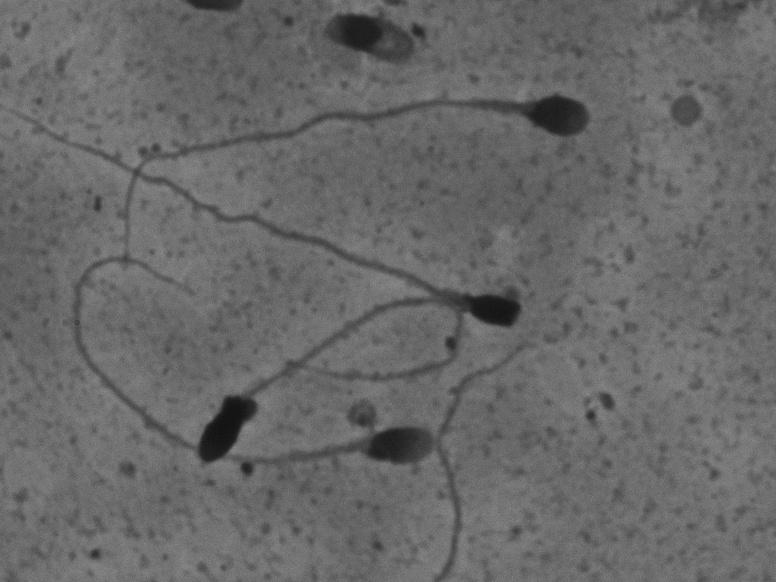Abnormal: (8, 89, 532, 339), (49, 241, 436, 478), (183, 289, 476, 472)
Normal: (109, 84, 602, 278)
